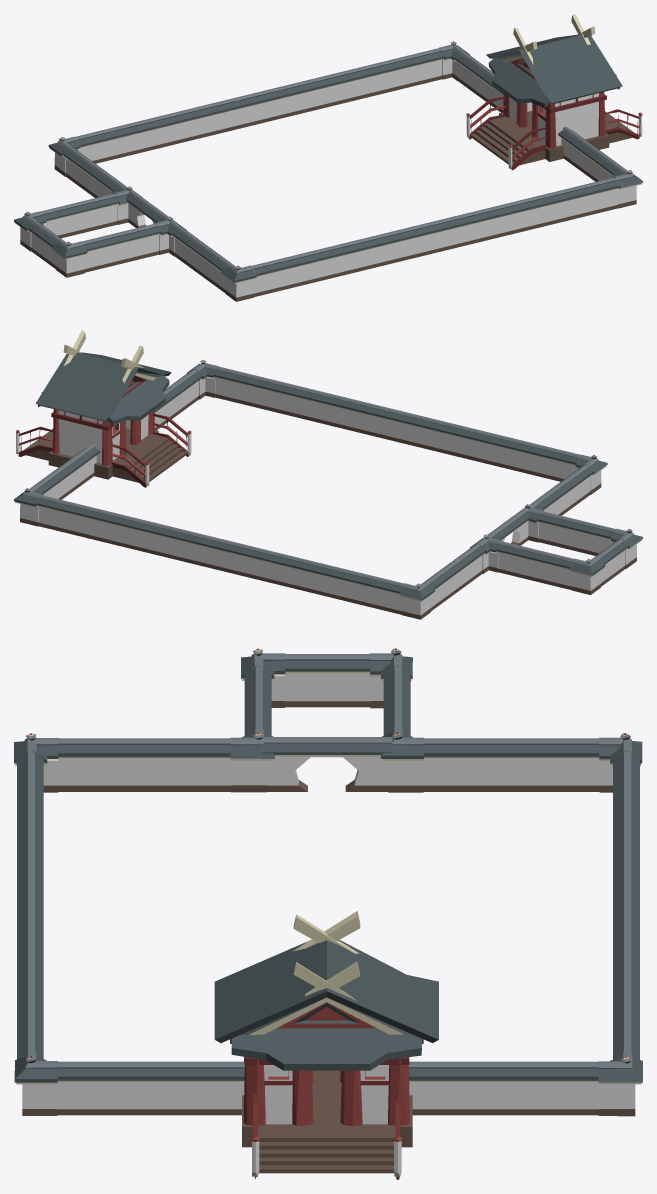
The model's file is garden-walls.glb.
3 views of the same model, one above another, from view 1: azimuth 30°, elevation 25°; view 2: azimuth 150°, elevation 25°; view 3: azimuth 270°, elevation 25° (orthographic). The views are drawn at different scales.
Parts seen in each view (by area): view 1: roundGate.009; view 2: roundGate.009; view 3: roundGate.009.
Part boxes in pixels (x1,y1,x2,y2): roundGate.009: [14, 14, 642, 301]; roundGate.009: [14, 330, 642, 619]; roundGate.009: [14, 648, 642, 1179].
Bounding box in the file's own units: 77 × 14.29 × 42.65.
